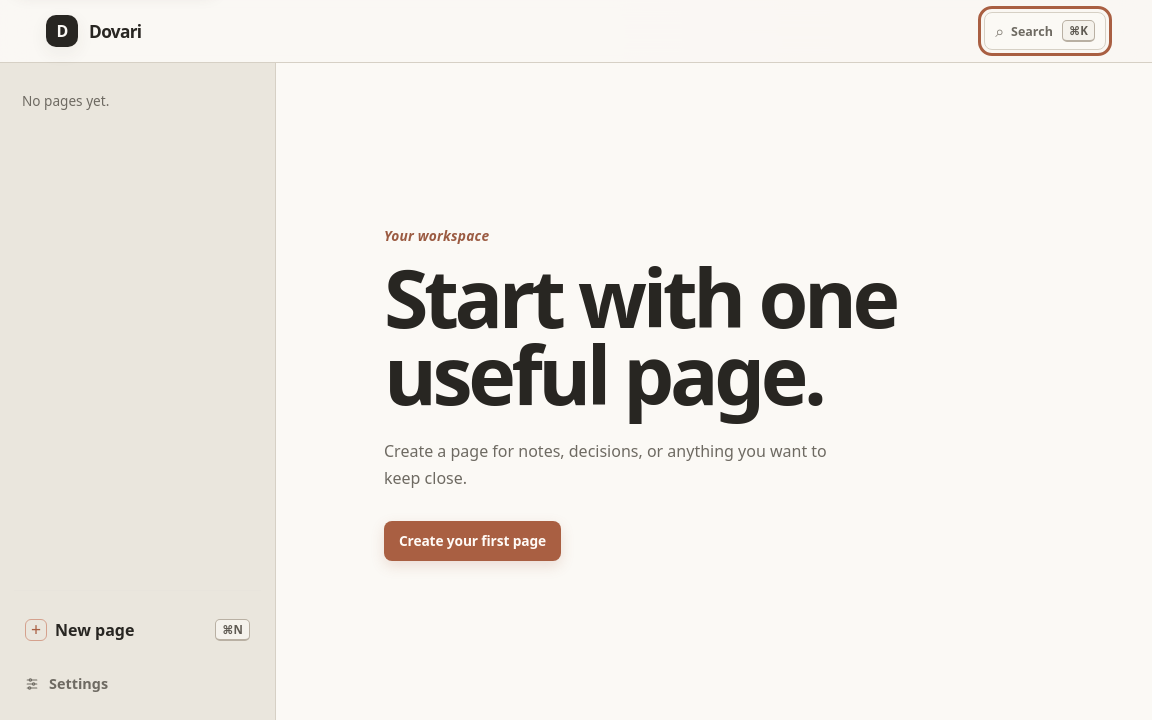
Dovari app shell › opens the command palette from Ctrl+K, toggles the theme, and restores focus
This screenshot has width=1152, height=720.
Check: the heading "Start with one useful page." is shown, box [384,242,896,429]
Press k
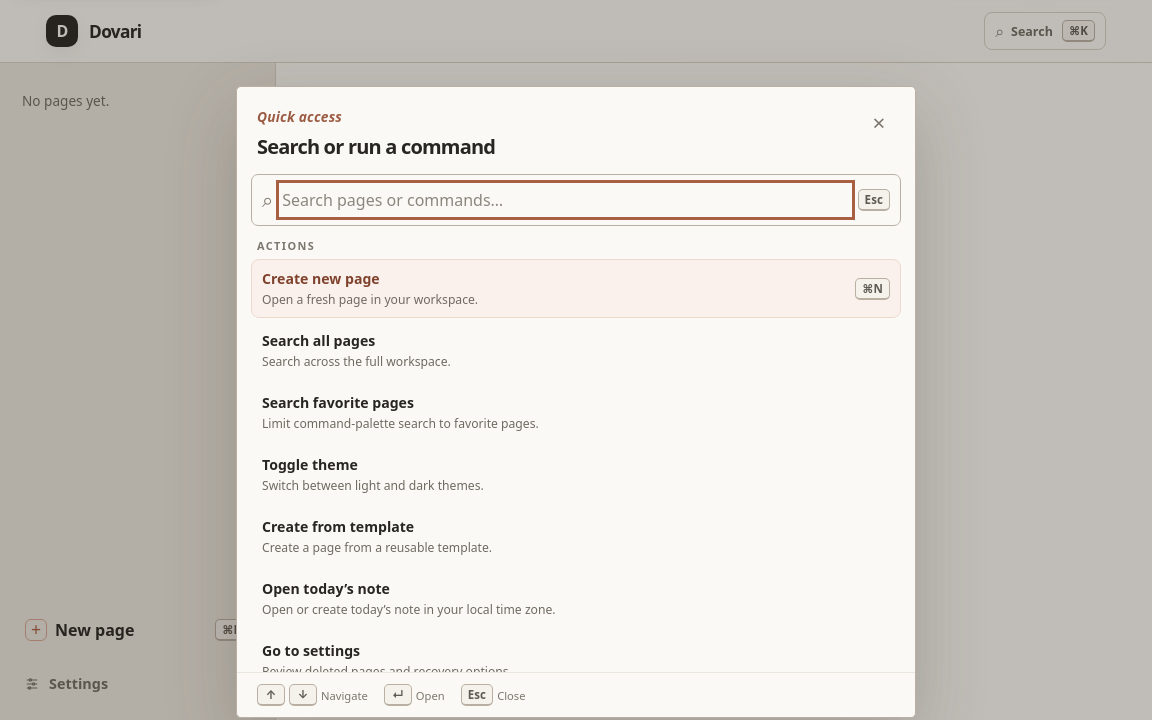
Check: the dialog "Search or run a command" is shown, box [236,86,916,718]
Click the text "Toggle theme" at (310, 465), box [262,455,358,474]
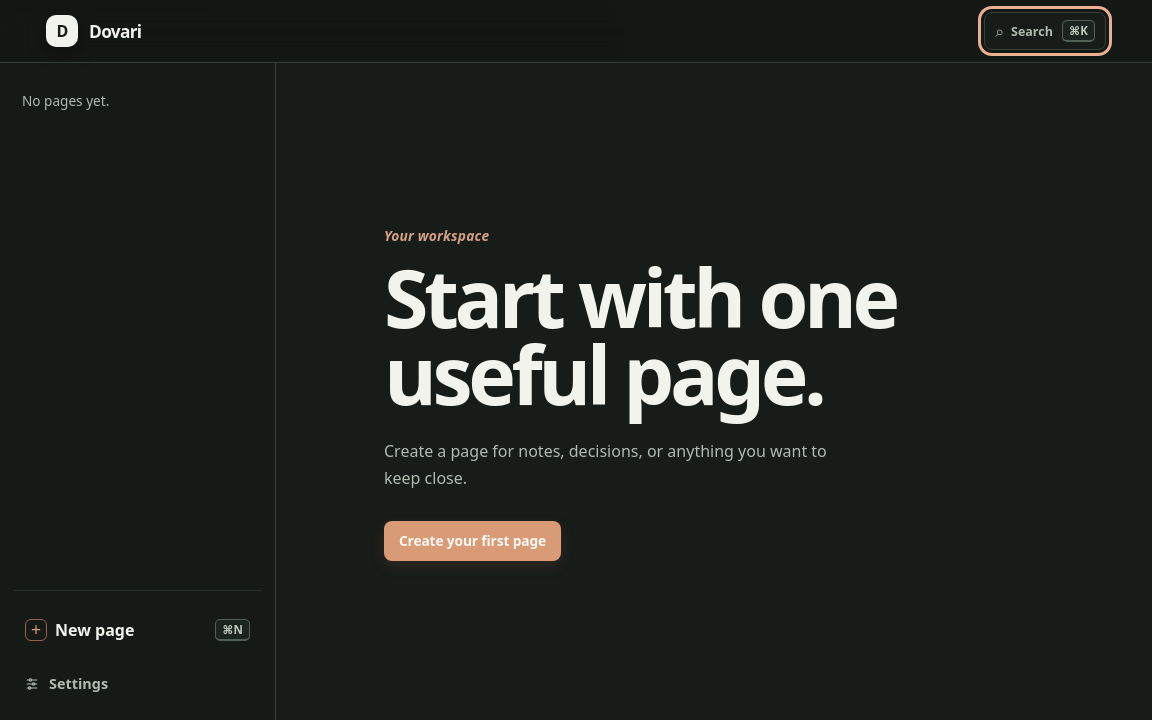
Check: the dialog is gone
